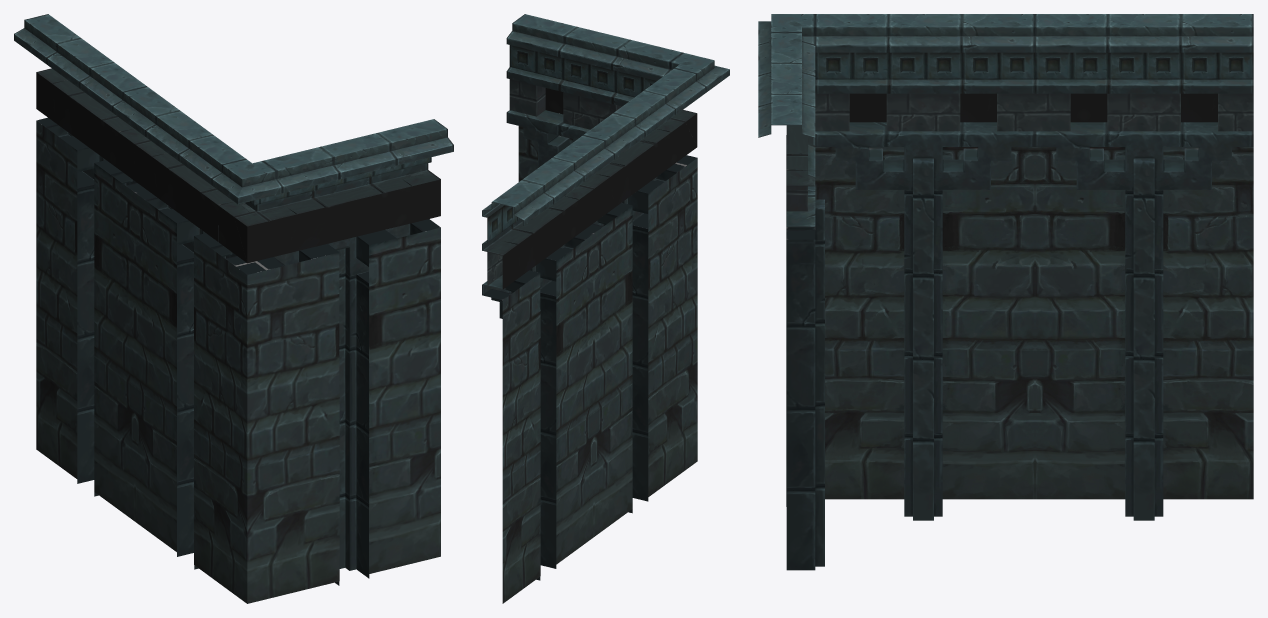
File: Stage_DiXiaCheng_DiMianBaoBian04.FBX
The picture shows the model from 3 angles, left to right: view 1: azimuth 30°, elevation 25°; view 2: azimuth 150°, elevation 25°; view 3: azimuth 270°, elevation 25°; orthographic projection. The views are drawn at different scales.
Visible parts, largest first — view 1: Stage_DiXiaCheng_DiMianBaoBian04; view 2: Stage_DiXiaCheng_DiMianBaoBian04; view 3: Stage_DiXiaCheng_DiMianBaoBian04.
Part boxes in pixels (<box>): Stage_DiXiaCheng_DiMianBaoBian04: <box>14,14,453,603</box>; Stage_DiXiaCheng_DiMianBaoBian04: <box>482,14,729,603</box>; Stage_DiXiaCheng_DiMianBaoBian04: <box>758,14,1253,570</box>.
Bounding box in the file's own units: 754 × 1458 × 1353.
